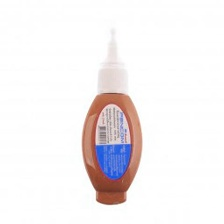correction_fluid: (79, 23, 143, 208)
